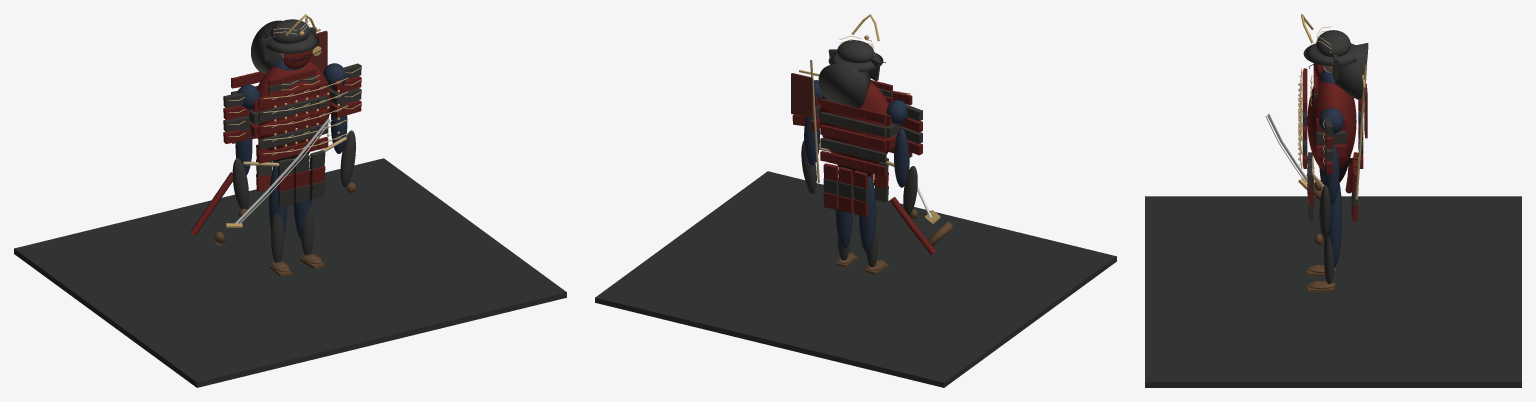
Rendered from samurai-baseline.glb.
3 renders of one model, left to right at view 1: azimuth 30°, elevation 25°; view 2: azimuth 150°, elevation 25°; view 3: azimuth 270°, elevation 25°, orthographic. The views are drawn at different scales.
Visible parts, largest first — view 1: matte charcoal inspection plinth, rounded do cuirass silhouette, rear shikoro neck guard flare, segmented kabuto helmet bowl, right kote forearm guard, left kote forearm guard, wide kabuto brim, left shin greave, left hakama trouser leg, lacquered saya scabbard at left hip, right shin greave, right armored upper arm; view 2: matte charcoal inspection plinth, rear shikoro neck guard flare, rounded do cuirass silhouette, cloth sashimono banner panel, left hakama trouser leg, left armored upper arm, segmented kabuto helmet bowl, right hakama trouser leg, left kote forearm guard, right armored upper arm, lacquered saya scabbard at left hip, right kote forearm guard; view 3: matte charcoal inspection plinth, rounded do cuirass silhouette, rear shikoro neck guard flare, segmented kabuto helmet bowl, right hakama trouser leg, wide kabuto brim, right armored upper arm, right kote forearm guard, right shin greave, right shoulder undercloth, bamboo sashimono back pole.
Part boxes in pixels (left/top/right/bottom): matte charcoal inspection plinth: left=14, top=158, right=566, bottom=387; rounded do cuirass silhouette: left=257, top=61, right=330, bottom=150; rear shikoro neck guard flare: left=251, top=20, right=282, bottom=74; segmented kabuto helmet bowl: left=270, top=19, right=310, bottom=43; right kote forearm guard: left=340, top=130, right=355, bottom=187; left kote forearm guard: left=232, top=158, right=248, bottom=209; wide kabuto brim: left=261, top=33, right=319, bottom=53; left shin greave: left=271, top=213, right=284, bottom=262; left hakama trouser leg: left=269, top=166, right=287, bottom=234; lacquered saya scabbard at left hip: left=190, top=172, right=232, bottom=235; right shin greave: left=301, top=205, right=314, bottom=255; right armored upper arm: left=330, top=104, right=347, bottom=153; matte charcoal inspection plinth: left=595, top=171, right=1116, bottom=387; rear shikoro neck guard flare: left=818, top=61, right=870, bottom=108; rounded do cuirass silhouette: left=819, top=82, right=888, bottom=163; cloth sashimono banner panel: left=791, top=73, right=813, bottom=118; left hakama trouser leg: left=859, top=176, right=876, bottom=253; left armored upper arm: left=894, top=129, right=909, bottom=187; segmented kabuto helmet bowl: left=837, top=40, right=874, bottom=62; right hakama trouser leg: left=835, top=180, right=852, bottom=248; left kote forearm guard: left=903, top=166, right=917, bottom=215; right armored upper arm: left=804, top=117, right=819, bottom=165; lacquered saya scabbard at left hip: left=889, top=197, right=935, bottom=254; right kote forearm guard: left=801, top=140, right=816, bottom=192; matte charcoal inspection plinth: left=1145, top=196, right=1521, bottom=387; rounded do cuirass silhouette: left=1307, top=78, right=1356, bottom=170; rear shikoro neck guard flare: left=1335, top=43, right=1368, bottom=99; segmented kabuto helmet bowl: left=1316, top=30, right=1350, bottom=56; right hakama trouser leg: left=1328, top=189, right=1341, bottom=267; wide kabuto brim: left=1303, top=43, right=1356, bottom=66; right armored upper arm: left=1323, top=142, right=1339, bottom=204; right kote forearm guard: left=1319, top=185, right=1330, bottom=238; right shin greave: left=1324, top=235, right=1334, bottom=283; right shoulder undercloth: left=1319, top=108, right=1343, bottom=134; bamboo sashimono back pole: left=1355, top=64, right=1366, bottom=199.
Size of the model in its own units: 4.2 by 2.96 by 3.6.
